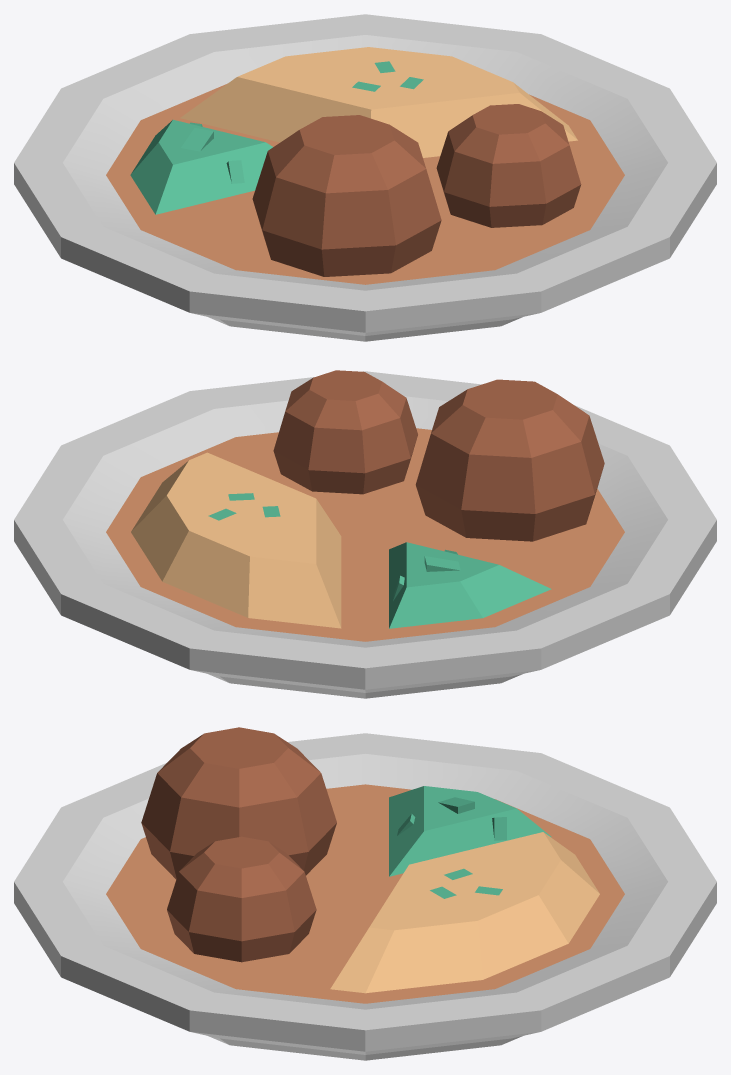
The model's file is plateDinner.dae.
3 views of the same model, one above another, from view 1: azimuth 30°, elevation 25°; view 2: azimuth 150°, elevation 25°; view 3: azimuth 270°, elevation 25° (orthographic).
Visible parts, largest first — view 1: plateDinner; view 2: plateDinner; view 3: plateDinner.
Boxes of the visible parts, x1,y1,x2,y2 form: plateDinner: (14, 14, 716, 341); plateDinner: (14, 370, 716, 698); plateDinner: (14, 727, 716, 1060).
Bounding box in the file's own units: 0.8918 × 0.2214 × 0.8918.
